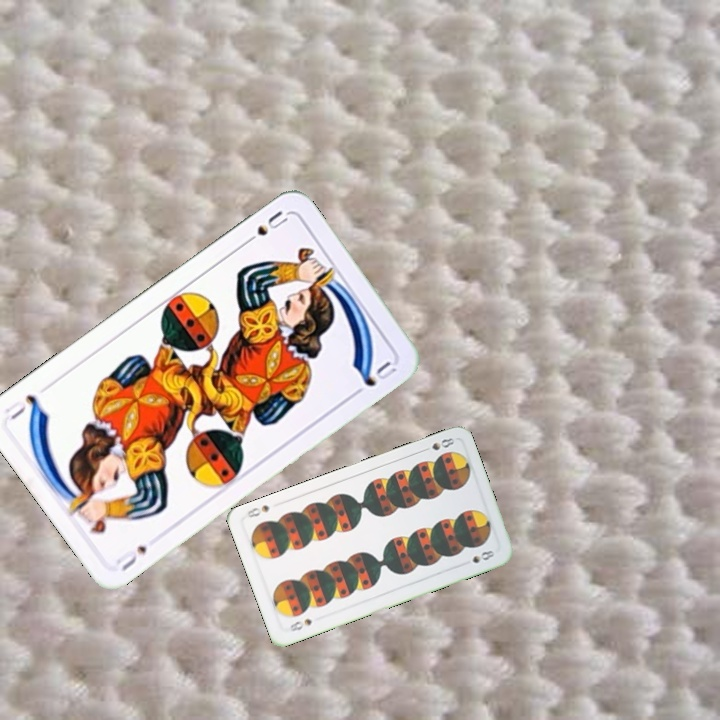S8: (417, 434, 457, 455), (286, 615, 315, 634)
SU: (238, 206, 291, 249), (111, 541, 149, 574)
